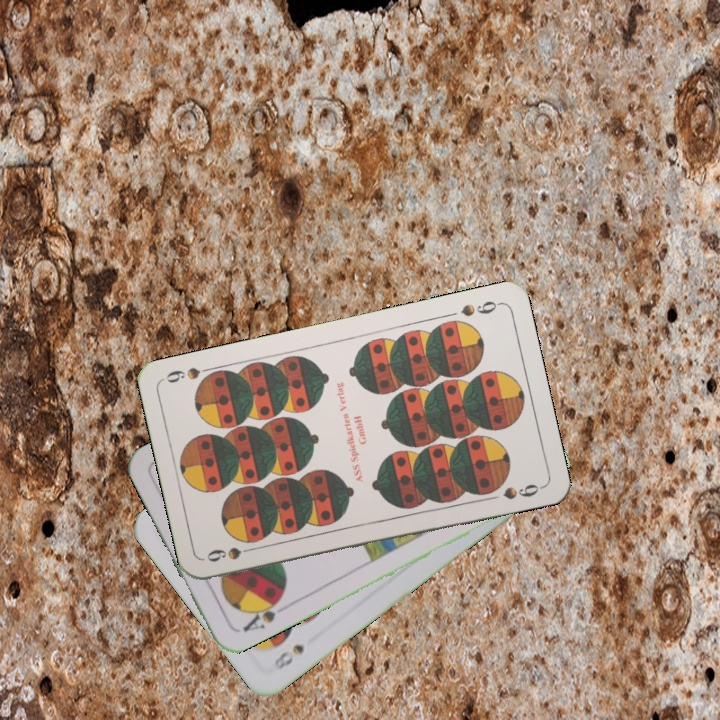S8: (270, 640, 308, 673)
S9: (202, 542, 261, 565), (456, 296, 503, 319)
SA: (238, 592, 290, 635)
